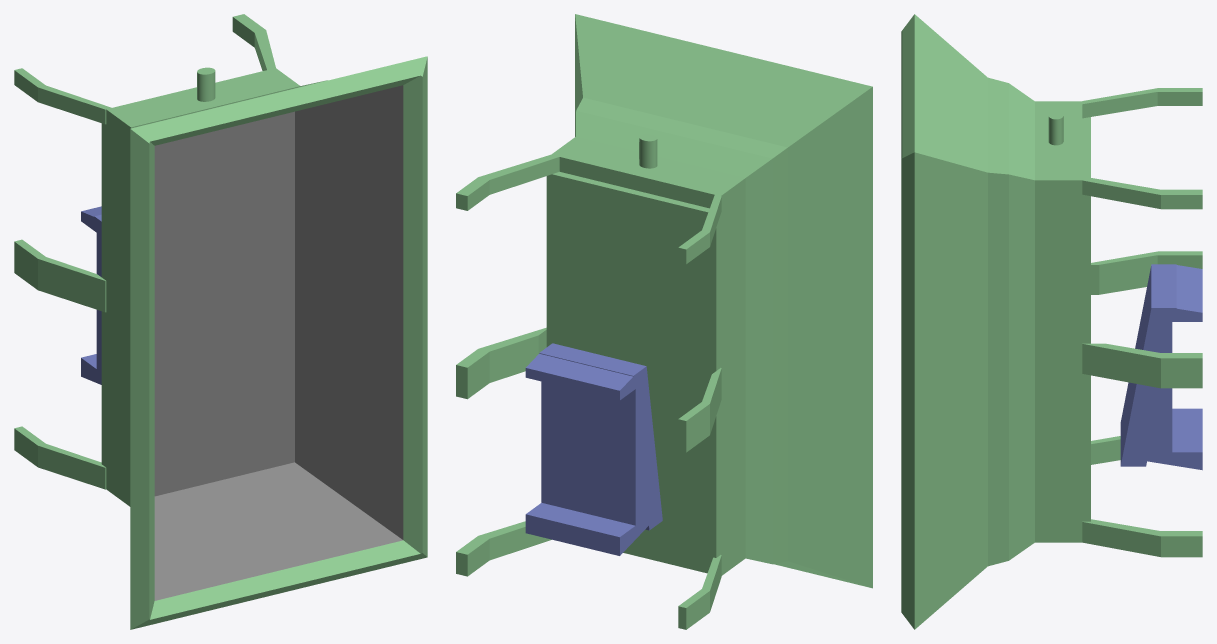
The model's file is aprisacchi.glb.
The picture shows the model from 3 angles, left to right: view 1: azimuth 30°, elevation 25°; view 2: azimuth 150°, elevation 25°; view 3: azimuth 270°, elevation 25°; orthographic projection. The views are drawn at different scales.
Visible parts, largest first — view 1: Body2, Body1; view 2: Body2, Body1; view 3: Body2, Body1.
Boxes of the visible parts, x1=… form: Body2: x1=14, y1=14, x2=427, y2=629; Body1: x1=81, y1=206, x2=101, y2=384; Body2: x1=456, y1=14, x2=872, y2=629; Body1: x1=525, y1=343, x2=662, y2=555; Body2: x1=901, y1=14, x2=1202, y2=629; Body1: x1=1120, y1=264, x2=1202, y2=470.
Size of the model in its own units: 0.0571 by 0.092 by 0.0526.
